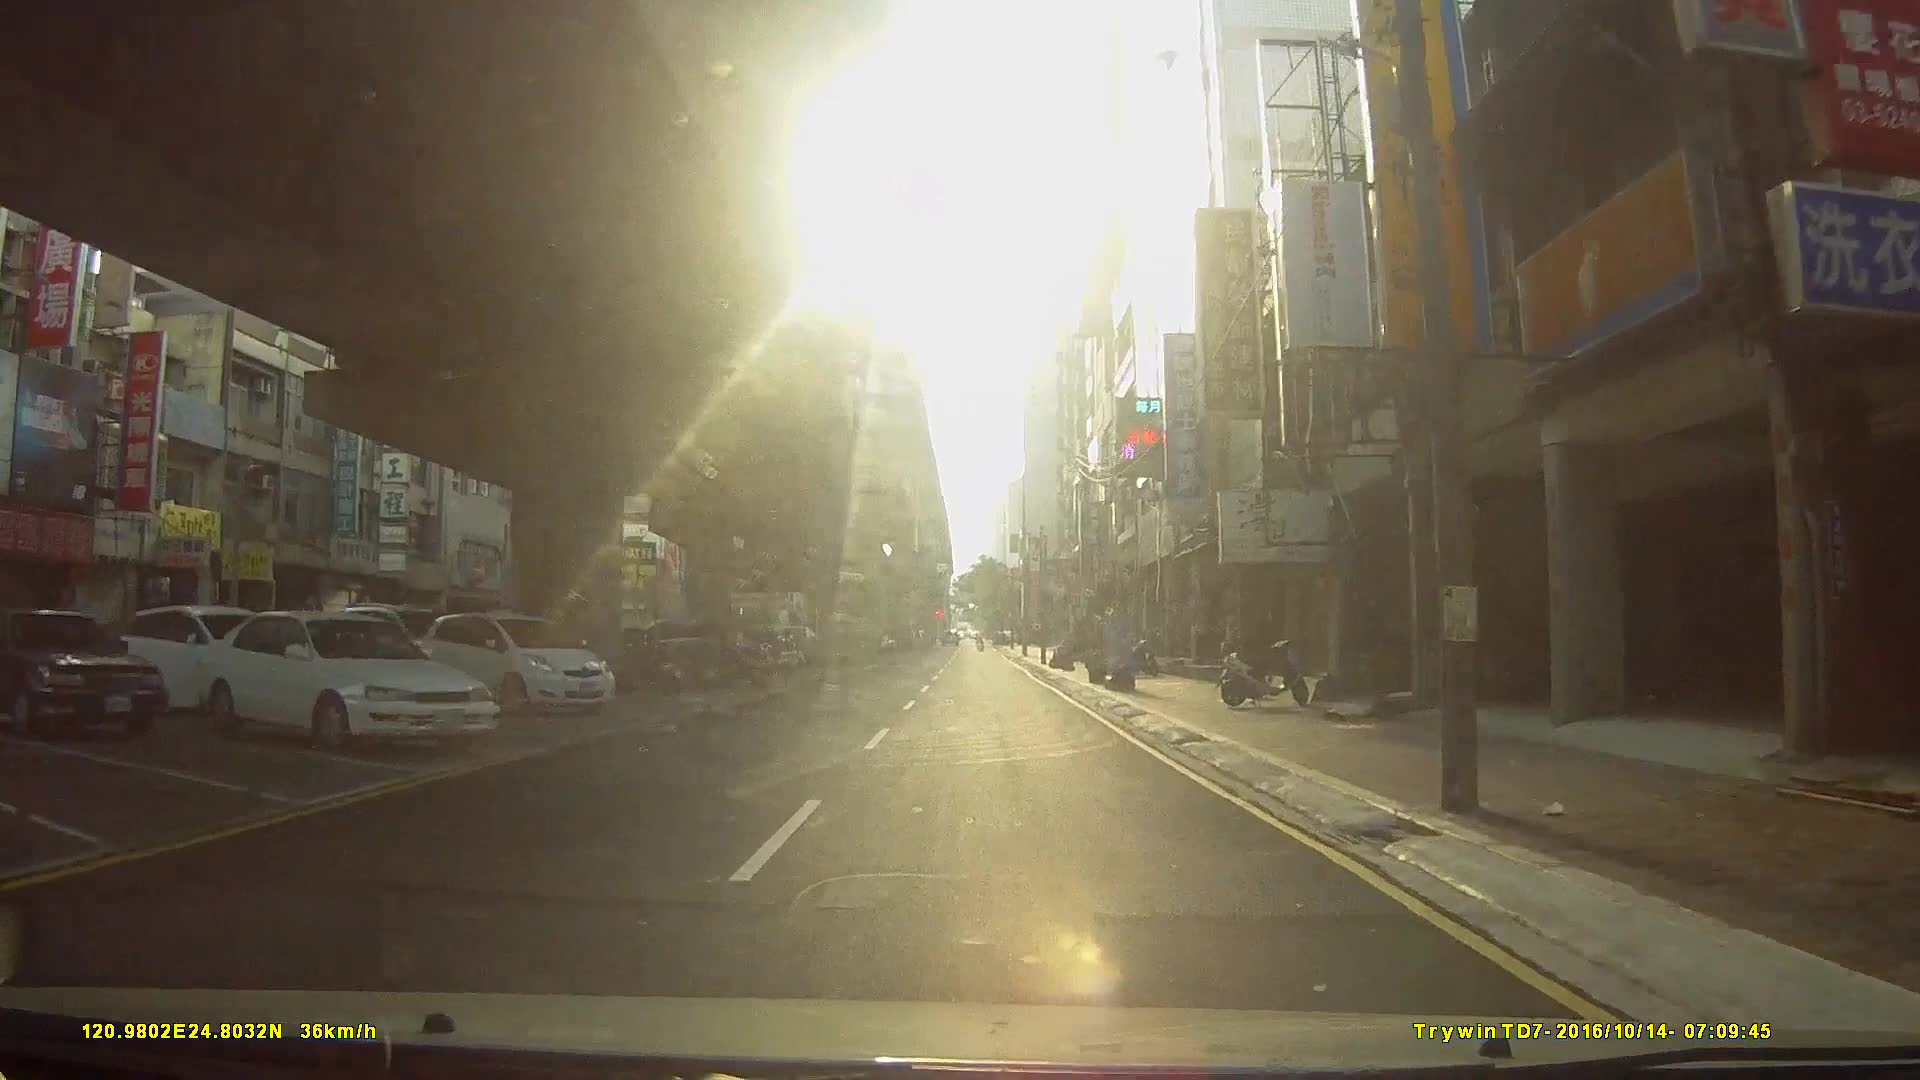vehicle: (193, 609, 497, 753), (0, 605, 164, 741), (415, 609, 617, 713), (116, 607, 284, 712)
